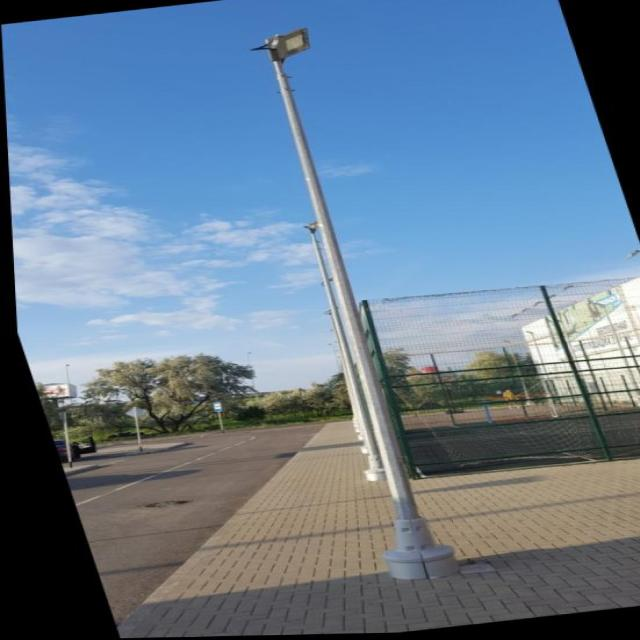pole: (278, 250, 512, 600)
